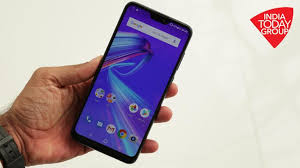asus: (68, 1, 196, 168)
